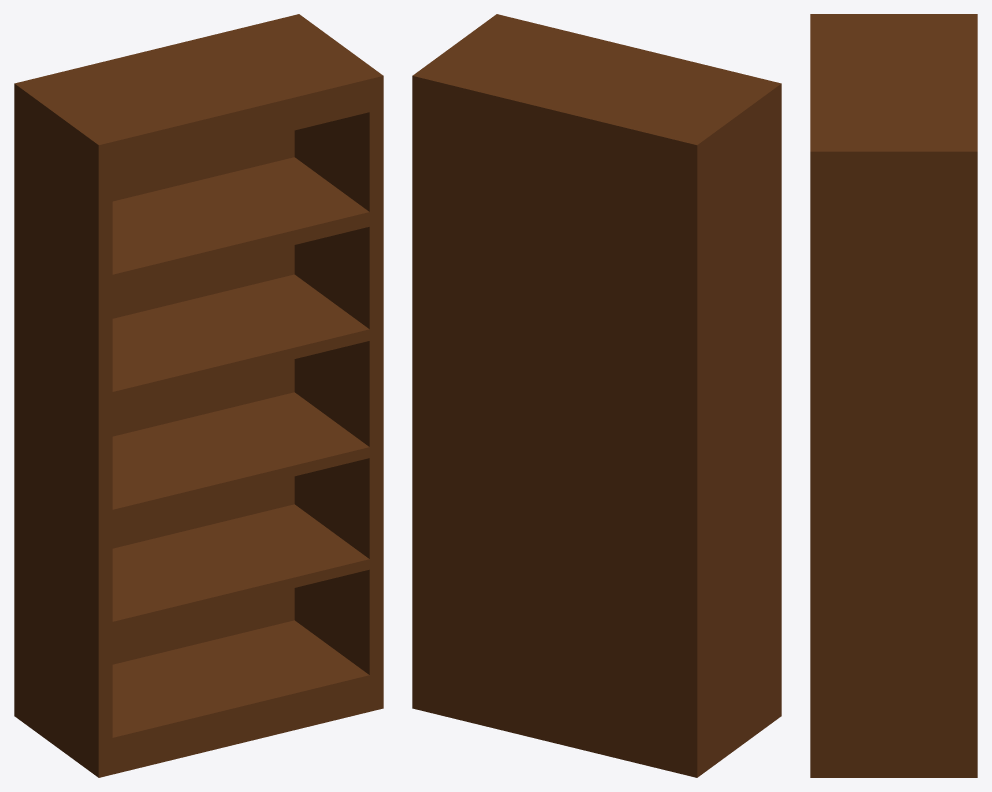
The model's file is bookcase.fbx.
The picture shows the model from 3 angles, left to right: view 1: azimuth 30°, elevation 25°; view 2: azimuth 150°, elevation 25°; view 3: azimuth 270°, elevation 25°; orthographic projection.
Parts seen in each view (by area): view 1: Book Case; view 2: Book Case; view 3: Book Case.
Part boxes in pixels (left/top/right/bottom): Book Case: left=14, top=14, right=383, bottom=777; Book Case: left=412, top=14, right=781, bottom=777; Book Case: left=810, top=14, right=977, bottom=777.
Bounding box in the file's own units: 2619 × 1345 × 5561.
